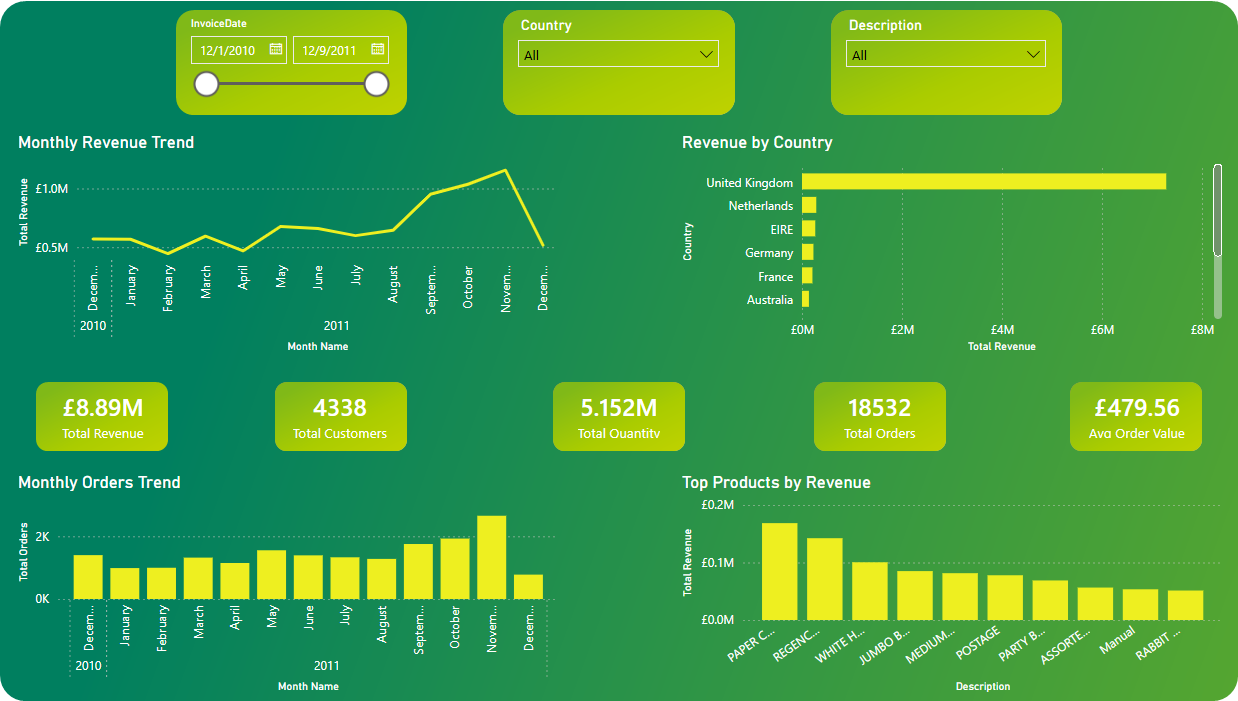

This screenshot's page, from the dashboard's own definition file:
{"tool":"powerbi","page":{"name":"Executive Summary","canvas":[1280,720],"ordinal":0},"visuals":[{"type":"cardVisual","fields":{"Data":["vw_completed_sales.Total Orders"]},"box":[811.3,384,179.6,80.1],"z":6000},{"type":"clusteredBarChart","title":"Revenue by Country","fields":{"Category":["vw_completed_sales.Country"],"Y":["vw_completed_sales.Total Revenue"]},"box":[698,141.1,550,225],"z":7000},{"type":"clusteredColumnChart","title":"Top Products by Revenue","fields":{"Category":["vw_completed_sales.Description"],"Y":["vw_completed_sales.Total Revenue"]},"box":[698,481.4,550,225],"z":8000},{"type":"columnChart","title":"Monthly Orders Trend","fields":{"Y":["vw_completed_sales.Total Orders"],"Category":["vw_completed_sales.Year","vw_completed_sales.Month_Name"]},"box":[34,481.4,550,225],"z":9000},{"type":"lineChart","title":"Monthly Revenue Trend","fields":{"Y":["vw_completed_sales.Total Revenue"],"Category":["vw_completed_sales.Year","vw_completed_sales.Month Name"]},"box":[34.1,141.1,550,225],"z":10000},{"type":"cardVisual","fields":{"Data":["vw_completed_sales.Total Customers"]},"box":[271.3,383.9,180,79.8],"z":11000},{"type":"cardVisual","fields":{"Data":["vw_completed_sales.Total Revenue"]},"box":[34.1,384,179.6,80.1],"z":12000},{"type":"cardVisual","fields":{"Data":["vw_completed_sales.Average Order Value"]},"box":[1068.2,384,179.6,80.1],"z":13000},{"type":"cardVisual","fields":{"Data":["vw_completed_sales.Total Quantity"]},"box":[549.8,384,180,80.1],"z":14000},{"type":"slicer","fields":{"Values":["vw_completed_sales.InvoiceDate"]},"box":[198.9,21.2,220.1,98.5],"z":15000},{"type":"slicer","fields":{"Values":["vw_completed_sales.Country"]},"box":[529.5,21.2,220.1,98.5],"z":16000},{"type":"slicer","fields":{"Values":["vw_completed_sales.Description"]},"box":[857.4,21.3,219.9,98.4],"z":17000}]}

Visuals, with their boxes in screenshot pixels (x1, y1, x2, y2), scaled from the page's 1280x720 canvas onto the 1238x701 screenshot:
cardVisual - vw_completed_sales.Total Orders: [785, 374, 958, 452]
"Revenue by Country" clusteredBarChart: [675, 137, 1207, 356]
"Top Products by Revenue" clusteredColumnChart: [675, 469, 1207, 688]
"Monthly Orders Trend" columnChart: [33, 469, 565, 688]
"Monthly Revenue Trend" lineChart: [33, 137, 565, 356]
cardVisual - vw_completed_sales.Total Customers: [262, 374, 436, 451]
cardVisual - vw_completed_sales.Total Revenue: [33, 374, 207, 452]
cardVisual - vw_completed_sales.Average Order Value: [1033, 374, 1207, 452]
cardVisual - vw_completed_sales.Total Quantity: [532, 374, 706, 452]
slicer - vw_completed_sales.InvoiceDate: [192, 21, 405, 117]
slicer - vw_completed_sales.Country: [512, 21, 725, 117]
slicer - vw_completed_sales.Description: [829, 21, 1042, 117]
